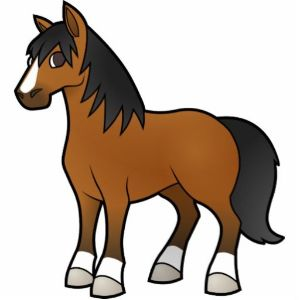horse: (9, 1, 286, 296)
